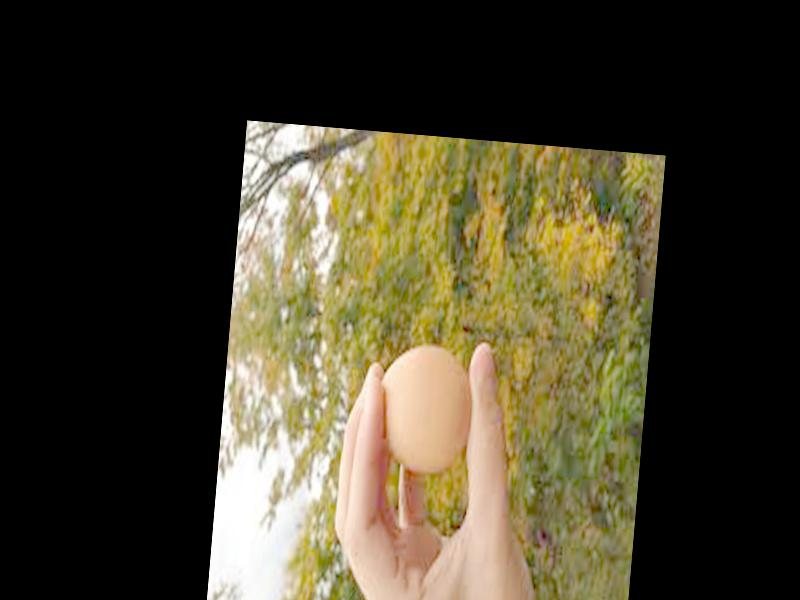Eggs: (373, 342, 477, 474)
